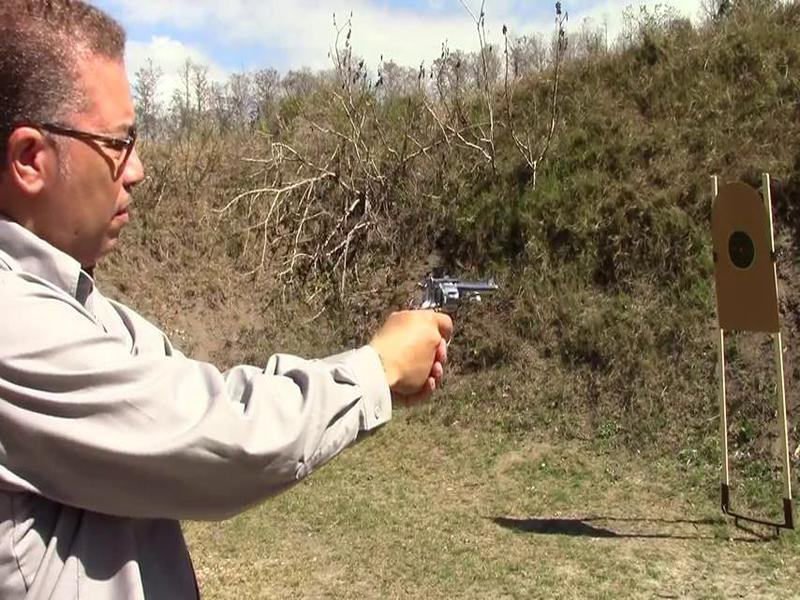Revolver: (410, 260, 508, 350)
